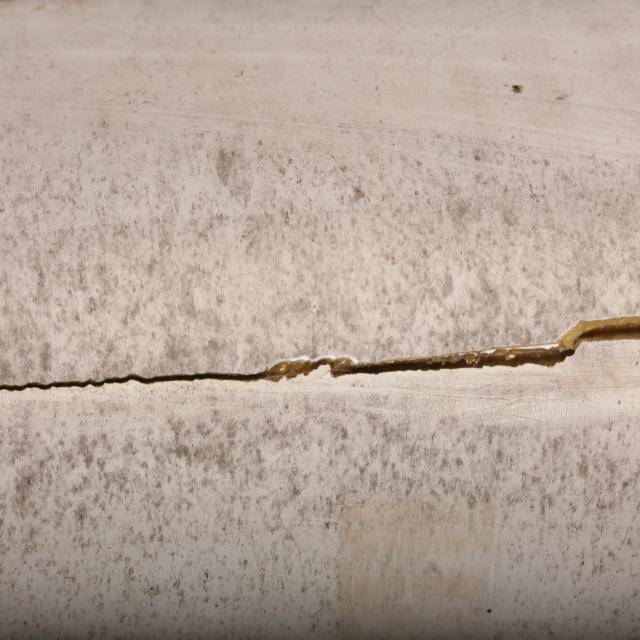Crack: (13, 322, 576, 428)
EROSION: (25, 453, 624, 521)
